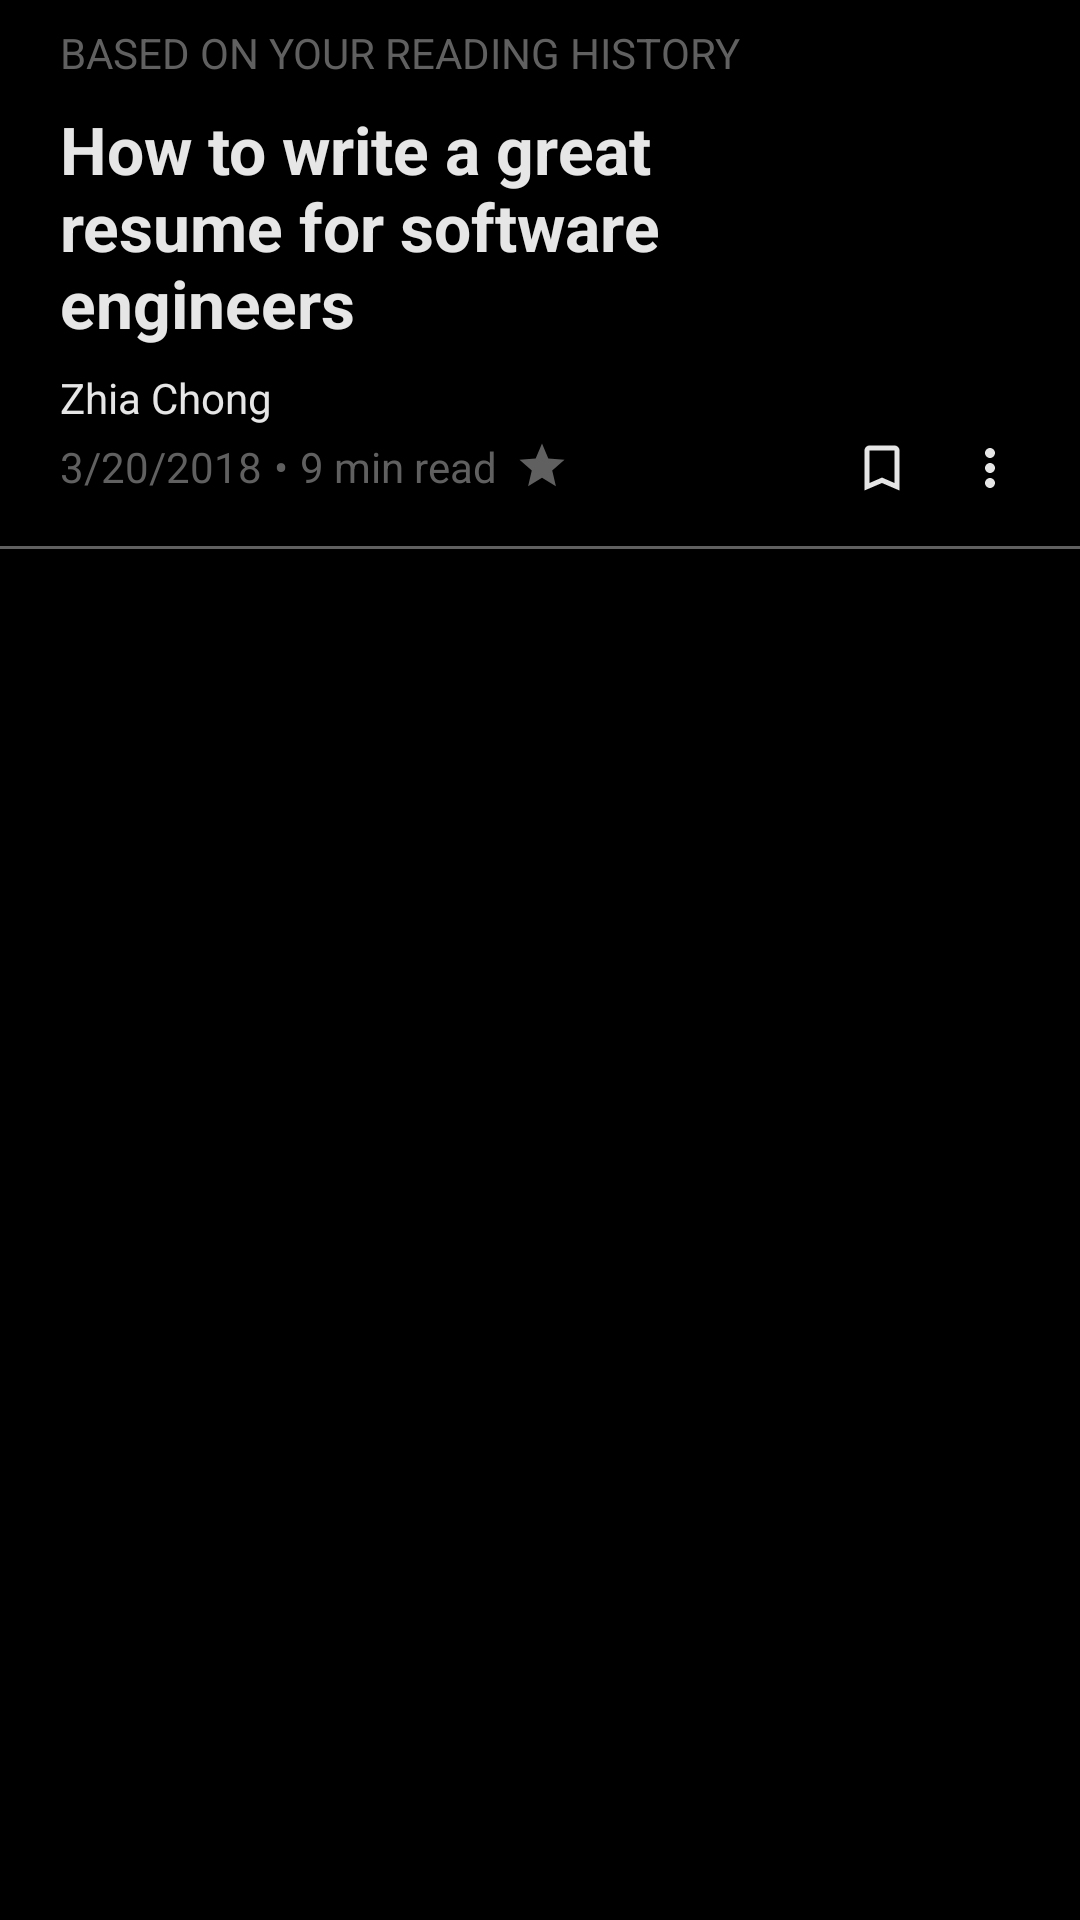

Where icons sit on this 1080×1920 app screen, as (x1, y1, x2, y2):
bookmark: (864, 445, 900, 491)
more vert: (985, 448, 995, 488)
